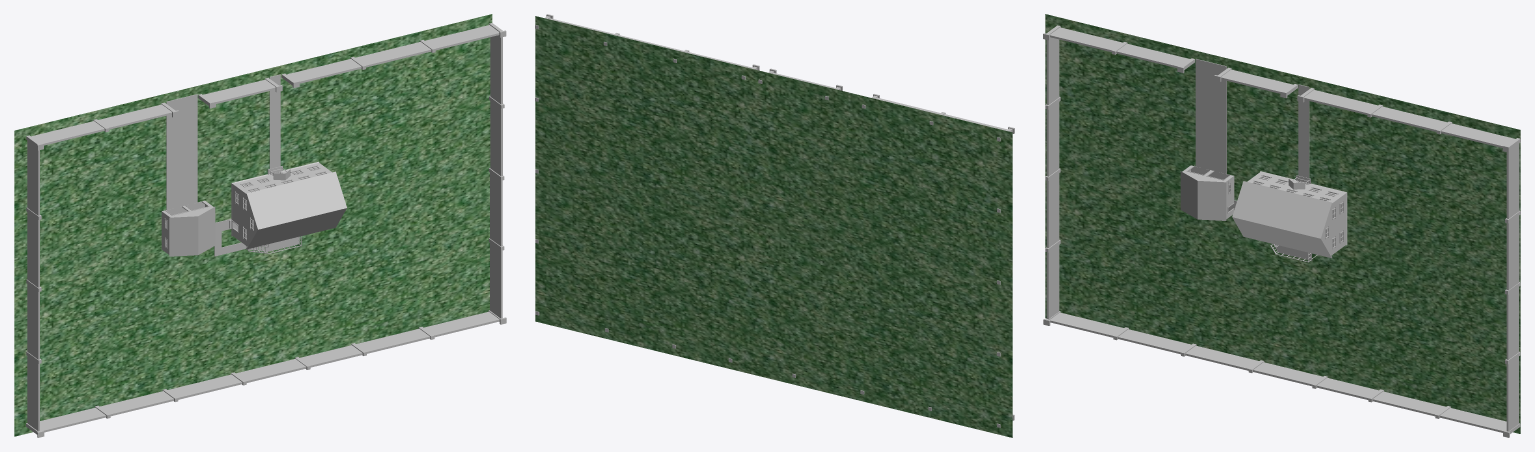
Rendered from estate21K_wtf.obj.
3 renders of one model, left to right at view 1: azimuth 30°, elevation 25°; view 2: azimuth 150°, elevation 25°; view 3: azimuth 330°, elevation 25°, orthographic.
Parts seen in each view (by area): view 1: group569, group352, group494, group351, group574, group92, group495, group535, group514, group516, group531, group518 (+18 smaller); view 2: group569; view 3: group569, group352, group494, group351, group574, group87, group495, group529, group514, group531, group516, group518 (+17 smaller).
Part boxes in pixels (left/top/right/bottom): group569: left=14, top=14, right=492, bottom=436; group352: left=246, top=171, right=346, bottom=229; group494: left=166, top=94, right=197, bottom=209; group351: left=246, top=208, right=346, bottom=249; group574: left=232, top=163, right=331, bottom=246; group92: left=169, top=216, right=198, bottom=256; group495: left=269, top=74, right=280, bottom=168; group535: left=490, top=243, right=502, bottom=318; group514: left=27, top=212, right=39, bottom=287; group516: left=27, top=284, right=39, bottom=359; group531: left=490, top=101, right=502, bottom=176; group518: left=27, top=356, right=39, bottom=431; group569: left=535, top=16, right=1012, bottom=437; group569: left=1045, top=14, right=1520, bottom=433; group352: left=1232, top=181, right=1332, bottom=238; group494: left=1195, top=59, right=1226, bottom=173; group351: left=1232, top=217, right=1332, bottom=258; group574: left=1247, top=172, right=1345, bottom=255; group87: left=1197, top=180, right=1226, bottom=220; group495: left=1298, top=84, right=1309, bottom=178; group529: left=1506, top=143, right=1519, bottom=218; group514: left=1046, top=102, right=1059, bottom=176; group531: left=1506, top=215, right=1519, bottom=290; group516: left=1046, top=173, right=1059, bottom=247; group518: left=1046, top=245, right=1059, bottom=319.
Size of the model in its own units: 660 by 403 by 67.62.
